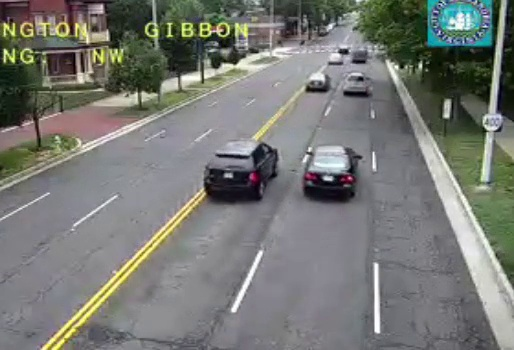car: (204, 139, 279, 195), (304, 145, 358, 196), (344, 72, 367, 93), (305, 73, 330, 92)
